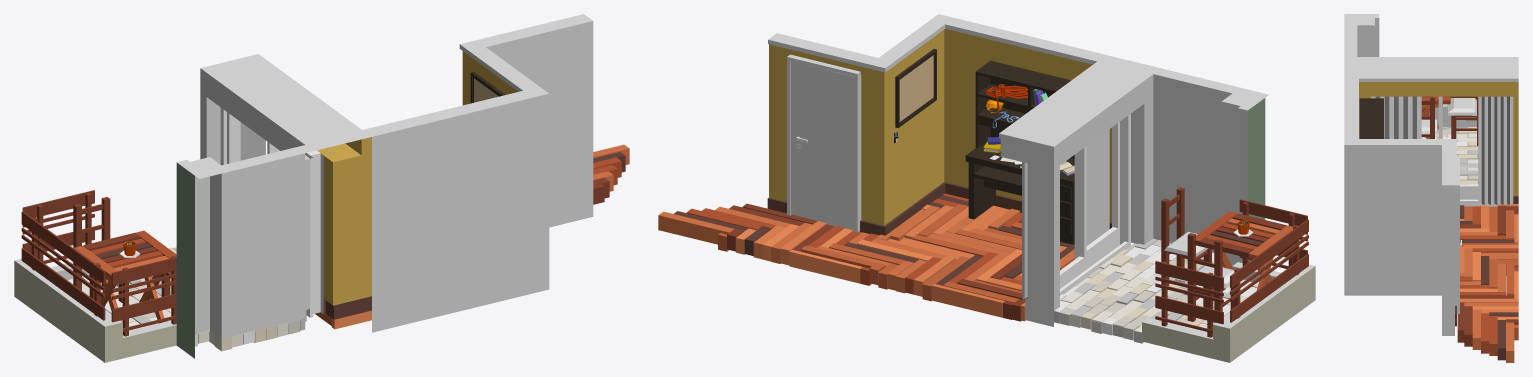
Rendered from corridorOptimized.glb.
The picture shows the model from 3 angles, left to right: view 1: azimuth 30°, elevation 25°; view 2: azimuth 150°, elevation 25°; view 3: azimuth 270°, elevation 25°; orthographic projection. The views are drawn at different scales.
Parts seen in each view (by area): view 1: ATomarColor; view 2: ATomarColor; view 3: ATomarColor.
Part boxes in pixels (box(x1,y1,x2,y2)): ATomarColor: box(14, 14, 629, 362); ATomarColor: box(658, 14, 1315, 362); ATomarColor: box(1344, 14, 1518, 362).
Size of what is drawn, in the model's own units: 8.06 by 2.49 by 2.61.
Materials: 44 (1 with a texture image).
